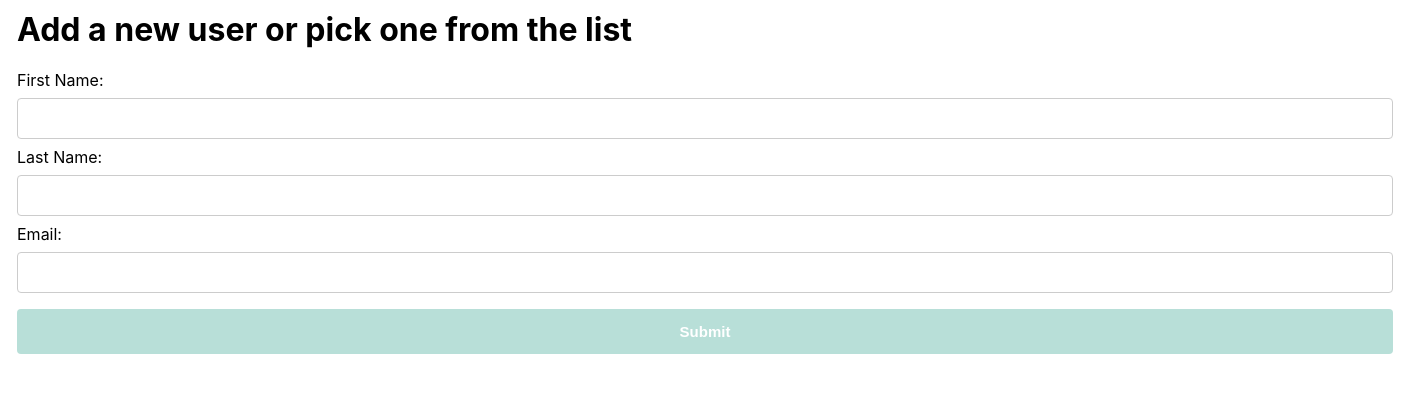
Test: Inputs fields › given invalid data › Email input › should show "Required" when input field left empty after clicking on it
This screenshot has width=1411, height=400.
Click the field labelled "Email:": point(705, 273) [17,252,1393,293]
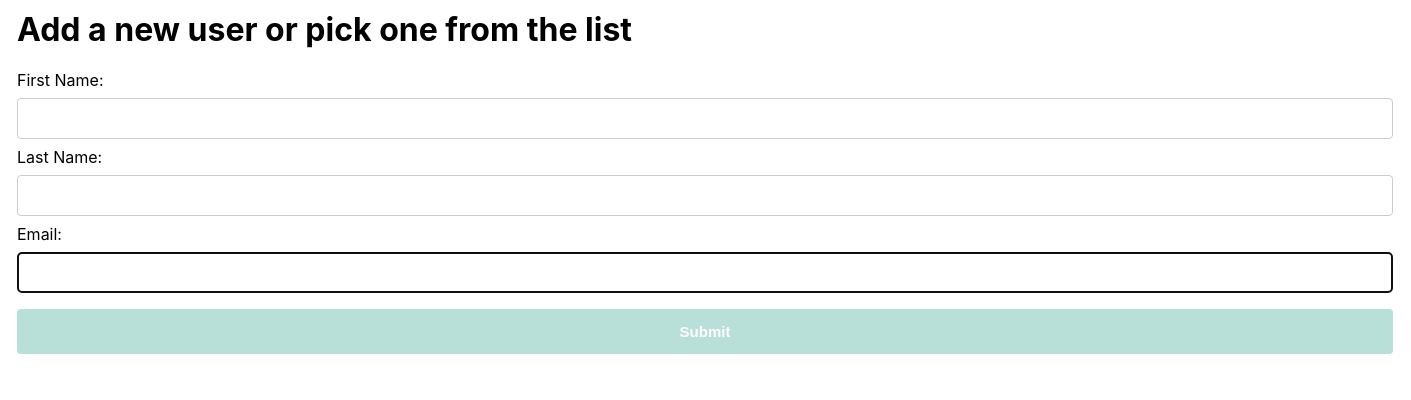
Press Tab
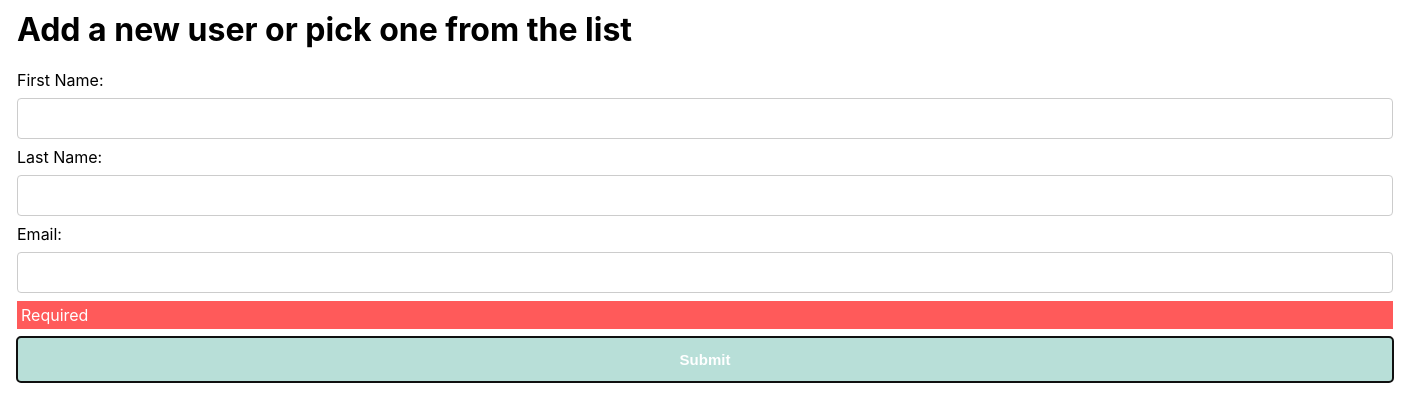
Now the text "Required" is shown once, box [17,301,1393,329]
